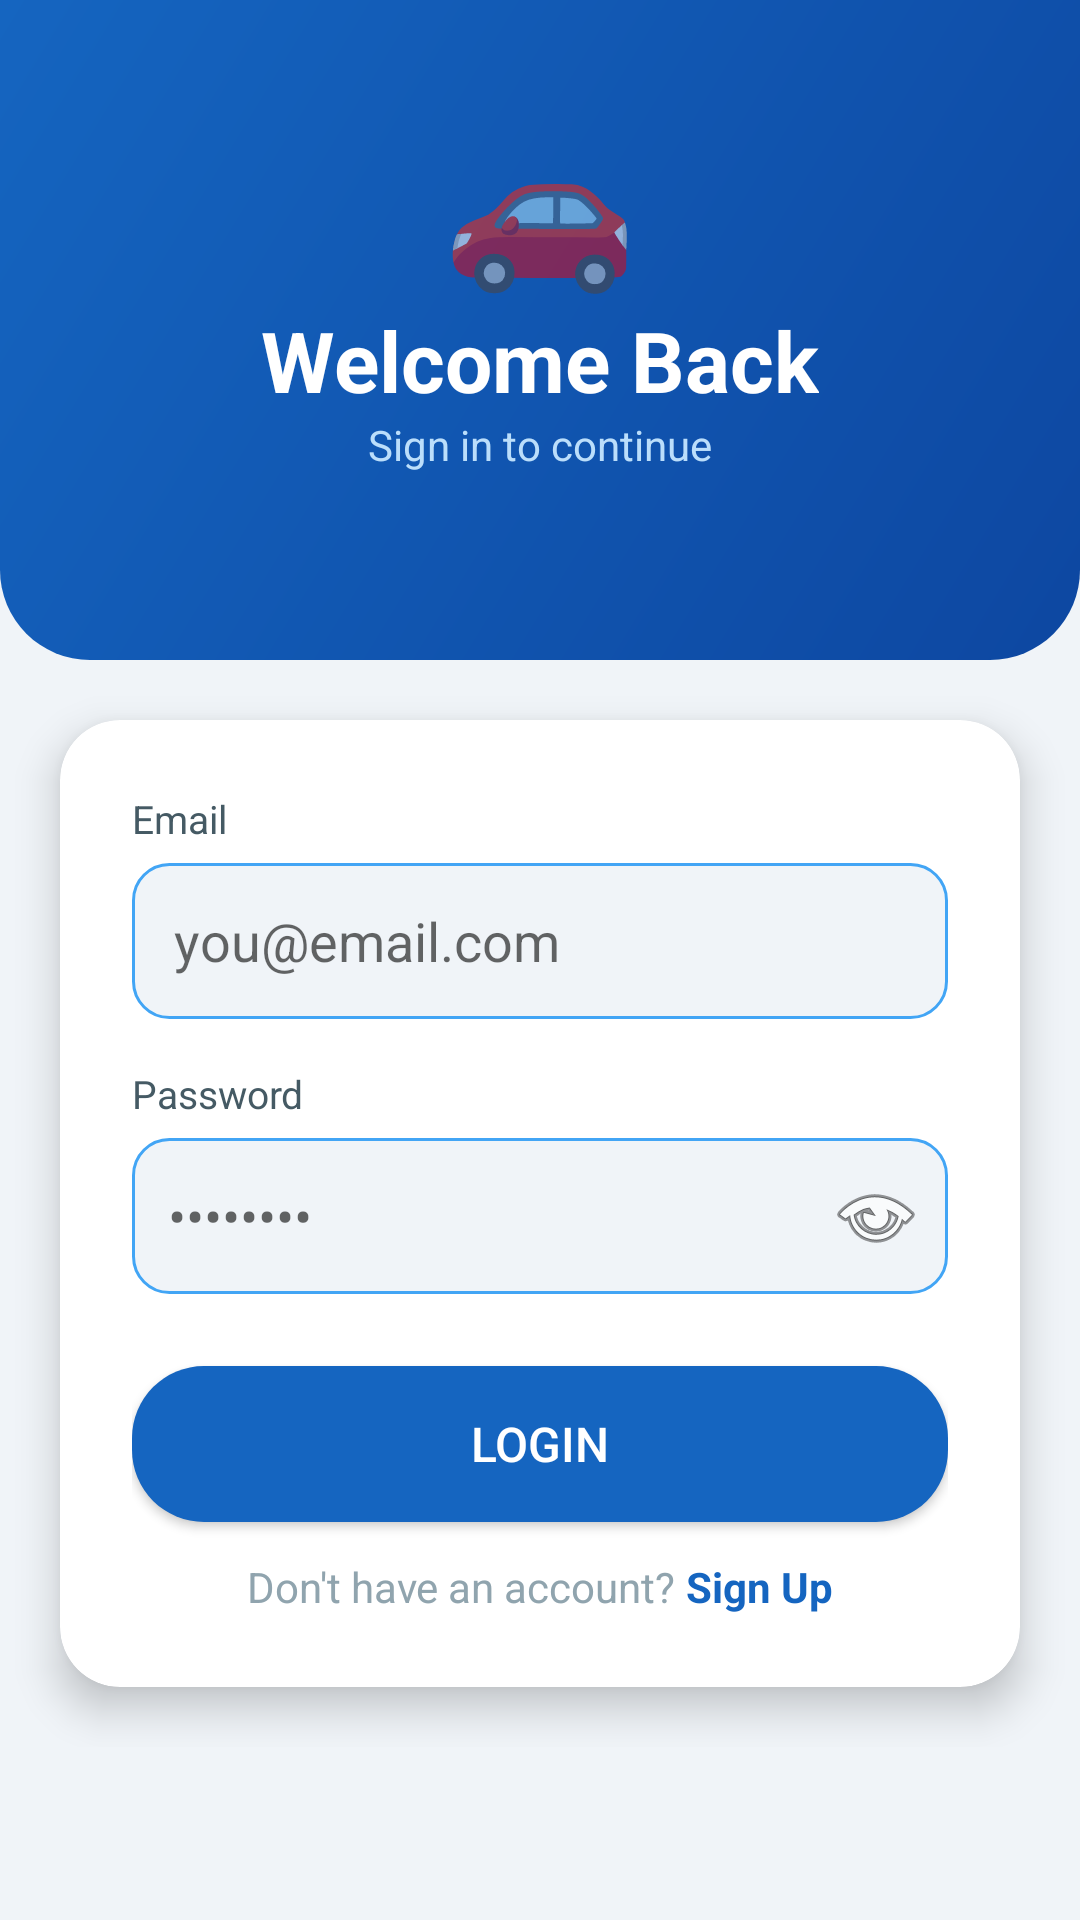

Point at icon controls on the screen. Image size 1080px×1920px, points as (x,y).
Toggle password visibility: (876,1218)
